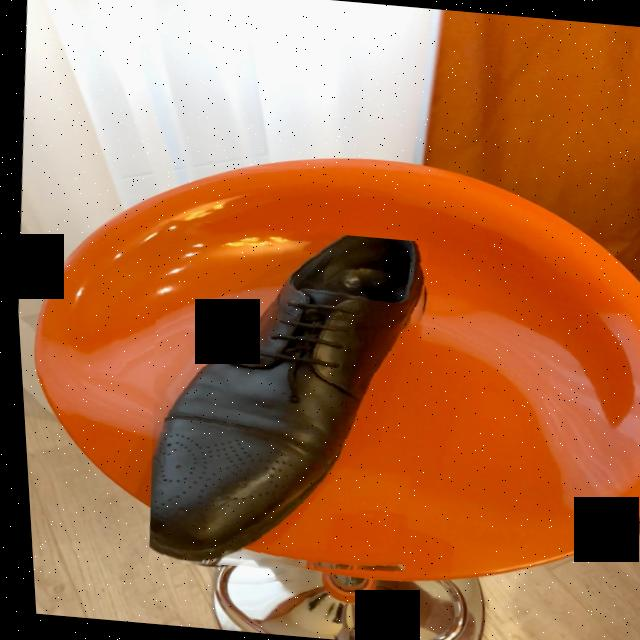shoe: (142, 235, 422, 566)
